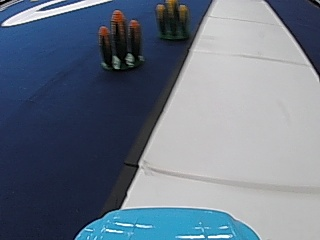corn: (97, 9, 144, 72), (154, 0, 190, 41)
